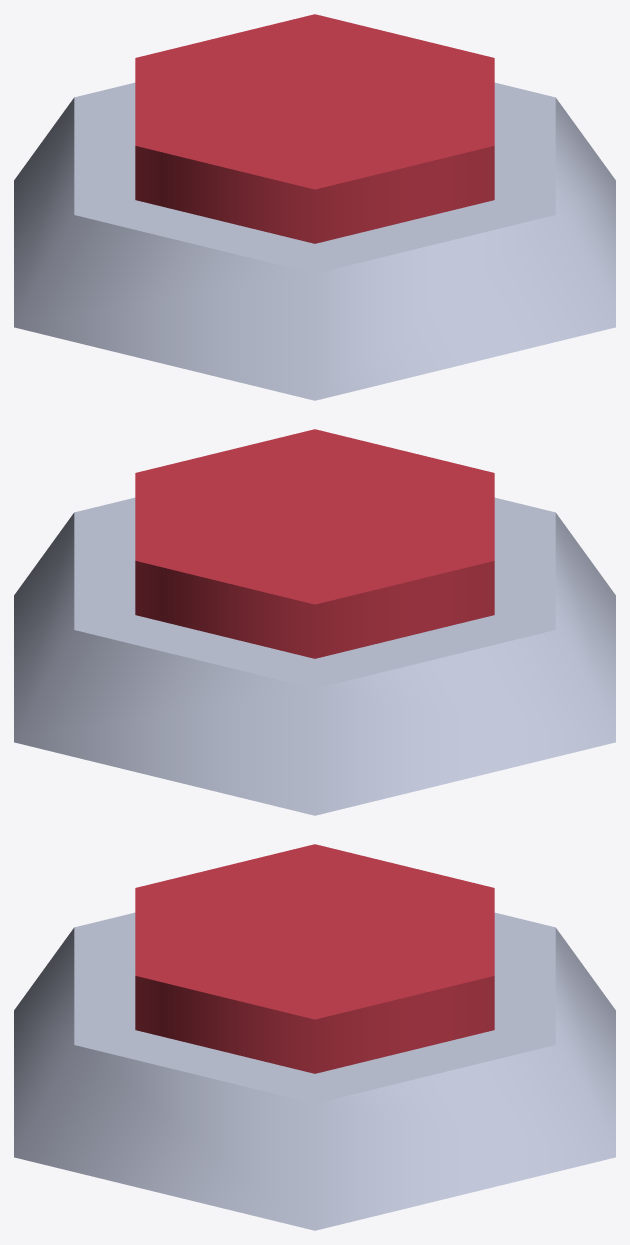
The model's file is buttonRound.glb.
3 renders of one model, top to bottom at view 1: azimuth 30°, elevation 25°; view 2: azimuth 150°, elevation 25°; view 3: azimuth 270°, elevation 25°, orthographic.
Parts seen in each view (by area): view 1: buttonRound, knobRound; view 2: buttonRound, knobRound; view 3: buttonRound, knobRound.
Part boxes in pixels (x1,y1,x2,y2): buttonRound: (14,82,615,400); knobRound: (135,14,494,243); buttonRound: (14,497,615,815); knobRound: (135,429,494,658); buttonRound: (14,912,615,1230); knobRound: (135,844,494,1073).
Bounding box in the file's own units: 0.58 × 0.14 × 0.5023.
